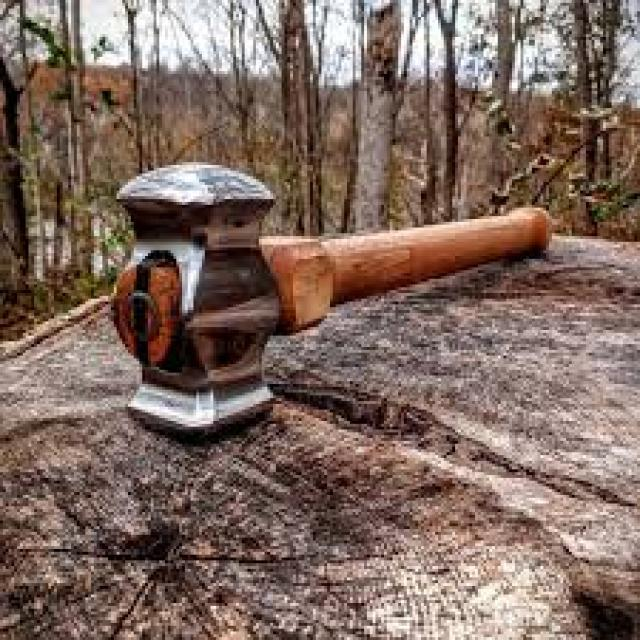hammer: (94, 162, 580, 447)
